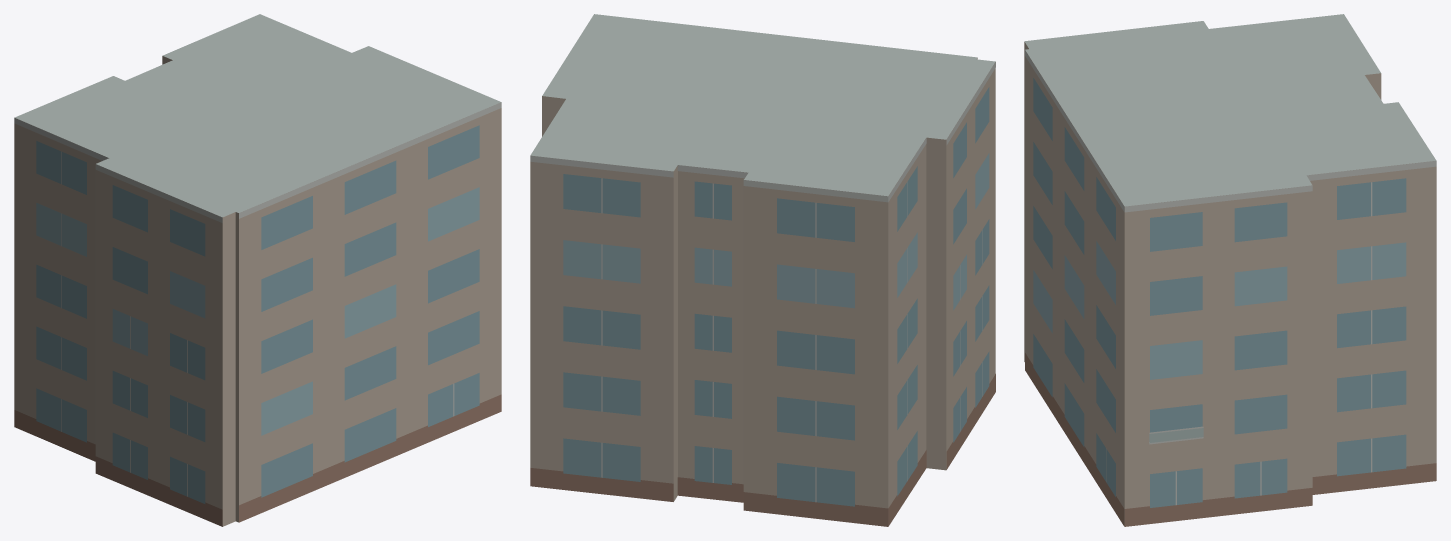
File: survey-upis-32712537.glb
3 views of the same model, side by side, from view 1: azimuth 30°, elevation 25°; view 2: azimuth 150°, elevation 25°; view 3: azimuth 270°, elevation 25° (orthographic). The views are drawn at different scales.
Visible parts, largest first — view 1: survey-upis-32712537.tmp; view 2: survey-upis-32712537.tmp; view 3: survey-upis-32712537.tmp.
Boxes of the visible parts, x1=… form: survey-upis-32712537.tmp: x1=14, y1=14, x2=501, y2=526; survey-upis-32712537.tmp: x1=530, y1=14, x2=995, y2=526; survey-upis-32712537.tmp: x1=1024, y1=14, x2=1436, y2=526.
Bounding box in the file's own units: 17.03 × 13.2 × 15.41.
